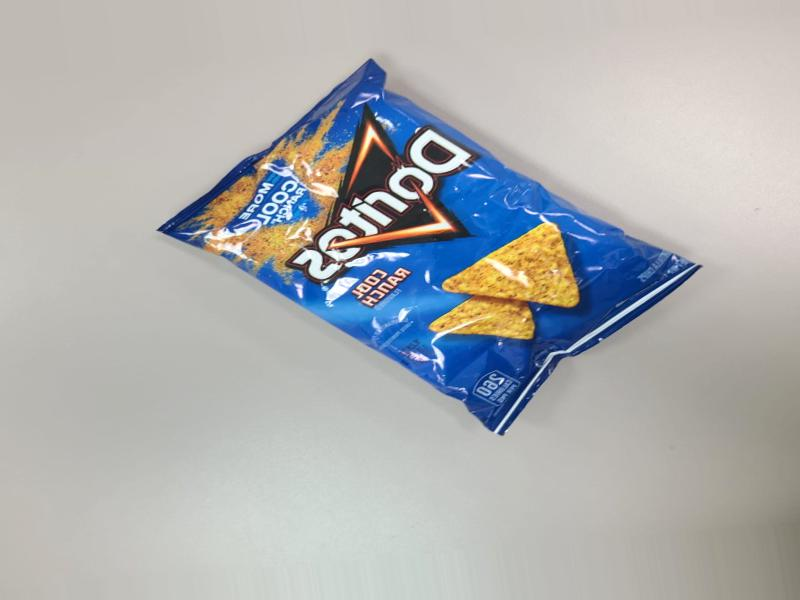doritos: (203, 76, 706, 396)
